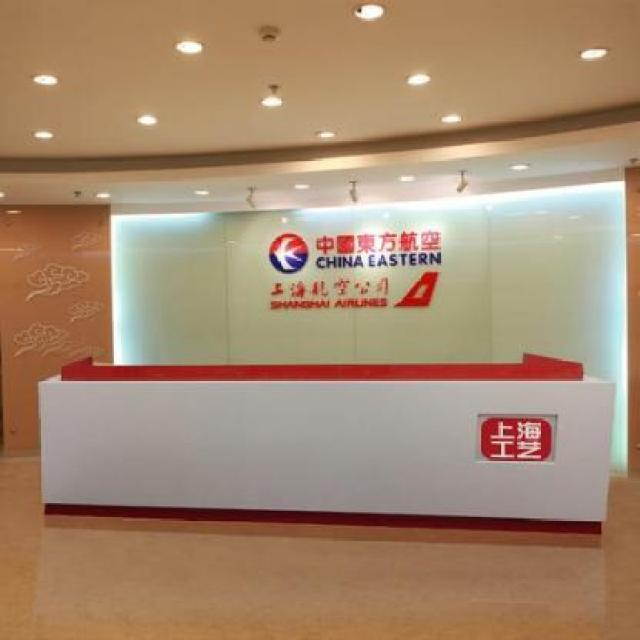frontdesk: (34, 343, 619, 552)
